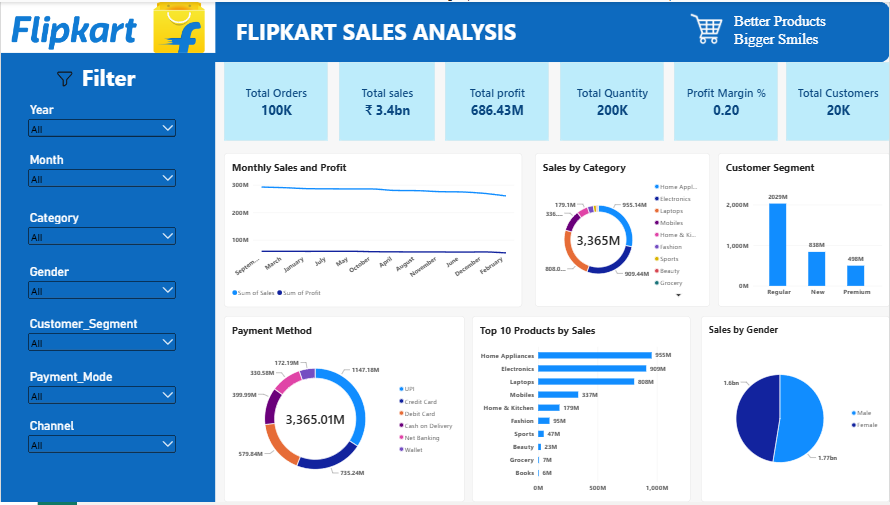

What the dashboard file says about the page in this screenshot:
{"tool":"powerbi","page":{"name":"Page 1","canvas":[1920,1080],"ordinal":0},"visuals":[{"type":"shape","box":[0,0,1920,130],"z":0},{"type":"image","box":[0,0,462.5,110],"z":1},{"type":"textbox","box":[507.5,30,618,82],"z":2},{"type":"image","box":[1467.4,16.3,116.3,76.7],"z":3},{"type":"cardVisual","title":"TOTAL SALES","fields":{"Data":["Calendar.Total sales"]},"box":[730,130,207.5,170],"z":4},{"type":"cardVisual","title":"TOTAL SALES","fields":{"Data":["Calendar.Total profit"]},"box":[960,130,224,170],"z":5},{"type":"cardVisual","title":"TOTAL SALES","fields":{"Data":["Calendar.Total Quantity"]},"box":[1208,130,224,170],"z":6},{"type":"cardVisual","title":"TOTAL SALES","fields":{"Data":["Calendar.Profit Margin %"]},"box":[1454,130,224,170],"z":7},{"type":"cardVisual","title":"TOTAL SALES","fields":{"Data":["Calendar.Total Customers"]},"box":[1696,130,224,170],"z":8},{"type":"cardVisual","title":"TOTAL SALES","fields":{"Data":["Calendar.Total Orders"]},"box":[482,130,224,170],"z":9},{"type":"shape","box":[0,110,462.5,970],"z":10},{"type":"textbox","box":[82.5,130,300,72.5],"z":11},{"type":"slicer","fields":{"Values":["Calendar.Year"]},"box":[55,215,327.5,85],"z":12},{"type":"slicer","fields":{"Values":["Calendar.Month_Name"]},"box":[55,325,327.5,92.5],"z":13},{"type":"slicer","fields":{"Values":["Products.Category"]},"box":[55,450,327.5,90],"z":14},{"type":"slicer","fields":{"Values":["Customers.Gender"]},"box":[55,565,327.5,92.5],"z":15},{"type":"slicer","fields":{"Values":["Customers.Customer_Segment"]},"box":[55,677.5,327.5,97.5],"z":16},{"type":"slicer","fields":{"Values":["Sales.Payment_Mode"]},"box":[55,792.5,327.5,87.5],"z":17},{"type":"slicer","fields":{"Values":["Sales.Channel"]},"box":[55,897.5,327.5,92.5],"z":18},{"type":"lineChart","title":"Monthly Sales and  Profit","fields":{"Category":["Calendar.Month_Name"],"Y":["Sum(Sales.Sales)","Sum(Sales.Profit)"]},"box":[481.4,325.6,644.2,332.6],"z":19},{"type":"donutChart","title":"Sales by Category","fields":{"Category":["Products.Category"],"Y":["Sum(Sales.Sales)"]},"box":[1154,326,378,332],"z":20},{"type":"pieChart","title":"Sales by Gender","fields":{"Category":["Customers.Gender"],"Y":["Sum(Sales.Sales)"]},"box":[1512,678,408,402],"z":21},{"type":"donutChart","title":"Payment Method","fields":{"Category":["Sales.Payment_Mode"],"Y":["Sum(Sales.Sales)"]},"box":[482,678,520,402],"z":22},{"type":"columnChart","title":"Customer Segment","fields":{"Category":["Customers.Customer_Segment"],"Y":["Sum(Sales.Sales)"]},"box":[1548,326,372,332],"z":23},{"type":"clusteredBarChart","title":"Top 10 Products by Sales","fields":{"Category":["Products.Category"],"Y":["Sum(Sales.Sales)"]},"box":[1018,678,472,402],"z":24},{"type":"textbox","box":[1583.7,23.3,300,86],"z":25},{"type":"image","box":[111.6,139.5,51.2,48.8],"z":26}]}

Visuals, with their boxes in screenshot pixels (x1, y1, x2, y2), scaled from the page's 1920x1080 canvas onto the 890x505 screenshot:
shape: bbox=(0, 0, 889, 61)
image: bbox=(0, 0, 214, 51)
textbox: bbox=(235, 14, 522, 52)
image: bbox=(680, 8, 734, 43)
"TOTAL SALES" cardVisual: bbox=(338, 61, 435, 140)
"TOTAL SALES" cardVisual: bbox=(445, 61, 549, 140)
"TOTAL SALES" cardVisual: bbox=(560, 61, 664, 140)
"TOTAL SALES" cardVisual: bbox=(674, 61, 778, 140)
"TOTAL SALES" cardVisual: bbox=(786, 61, 889, 140)
"TOTAL SALES" cardVisual: bbox=(223, 61, 327, 140)
shape: bbox=(0, 51, 214, 504)
textbox: bbox=(38, 61, 177, 95)
slicer - Calendar.Year: bbox=(25, 101, 177, 140)
slicer - Calendar.Month_Name: bbox=(25, 152, 177, 195)
slicer - Products.Category: bbox=(25, 210, 177, 252)
slicer - Customers.Gender: bbox=(25, 264, 177, 307)
slicer - Customers.Customer_Segment: bbox=(25, 317, 177, 362)
slicer - Sales.Payment_Mode: bbox=(25, 371, 177, 411)
slicer - Sales.Channel: bbox=(25, 420, 177, 463)
"Monthly Sales and  Profit" lineChart: bbox=(223, 152, 522, 308)
"Sales by Category" donutChart: bbox=(535, 152, 710, 308)
"Sales by Gender" pieChart: bbox=(701, 317, 889, 504)
"Payment Method" donutChart: bbox=(223, 317, 464, 504)
"Customer Segment" columnChart: bbox=(718, 152, 889, 308)
"Top 10 Products by Sales" clusteredBarChart: bbox=(472, 317, 691, 504)
textbox: bbox=(734, 11, 873, 51)
image: bbox=(52, 65, 75, 88)
